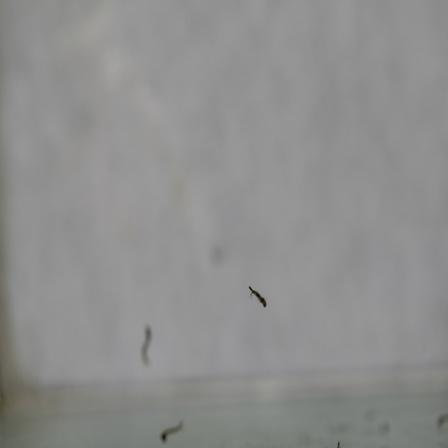Jentik-Nyamuk: (245, 283, 270, 312)
